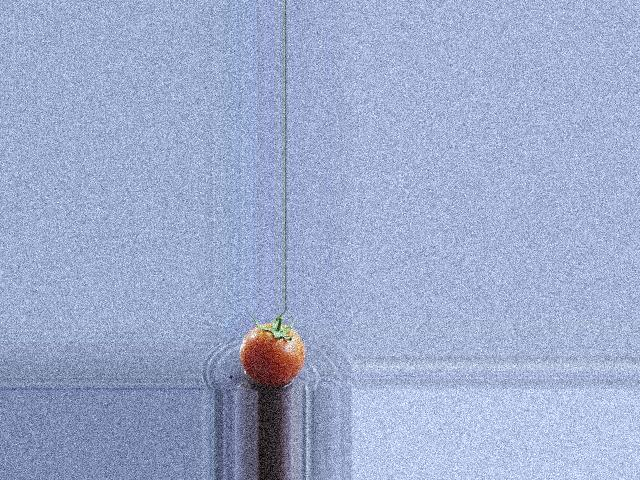tomato: (240, 324, 304, 387)
